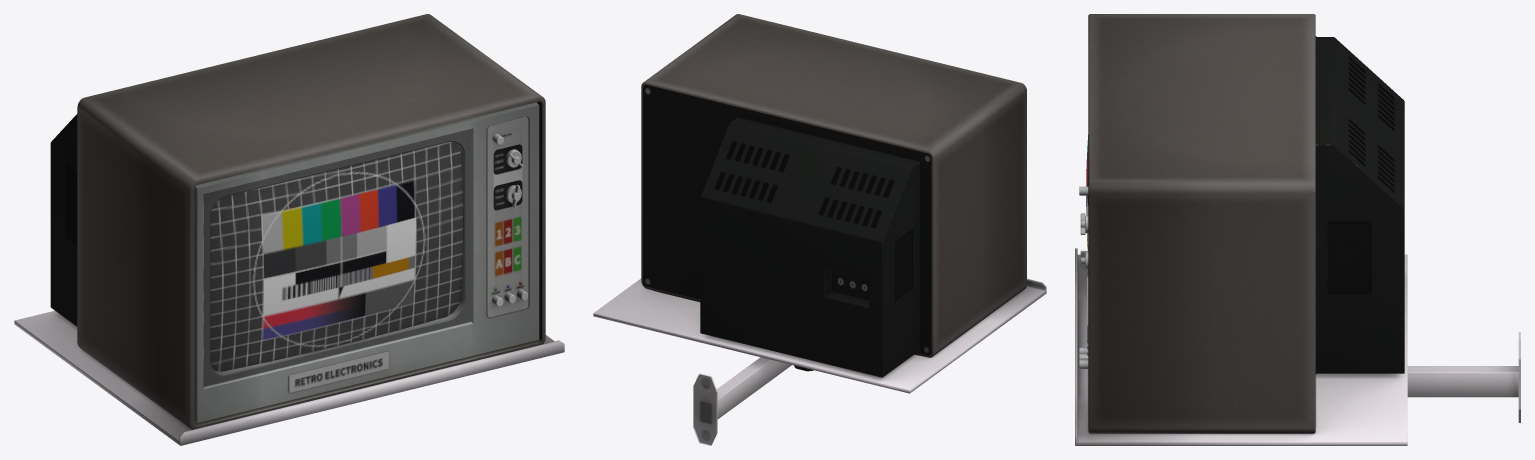
Rendered from video_store_tv.fbx.
3 renders of one model, left to right at view 1: azimuth 30°, elevation 25°; view 2: azimuth 150°, elevation 25°; view 3: azimuth 270°, elevation 25°, orthographic. The views are drawn at different scales.
Visible parts, largest first — view 1: Mesh12_Group15_Group11_Group6_Group1_Model; view 2: Mesh12_Group15_Group11_Group6_Group1_Model; view 3: Mesh12_Group15_Group11_Group6_Group1_Model.
Part boxes in pixels (x1,y1,x2,y2): Mesh12_Group15_Group11_Group6_Group1_Model: [14, 14, 564, 445]; Mesh12_Group15_Group11_Group6_Group1_Model: [593, 14, 1046, 445]; Mesh12_Group15_Group11_Group6_Group1_Model: [1075, 14, 1520, 445].
Size of the model in its own units: 64.88 by 51.97 by 65.13.
Materials: 1 (1 with a texture image).
